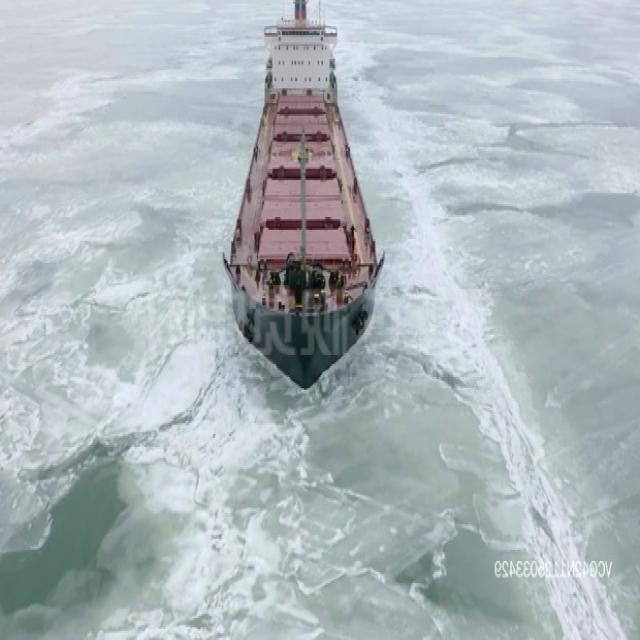cargoship: (224, 0, 383, 379)
